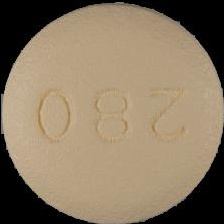31722-280: (0, 0, 224, 224)
